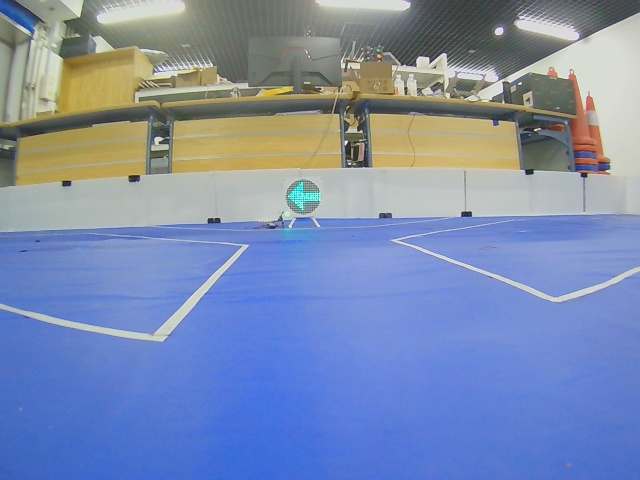left_green: (286, 180, 321, 215)
